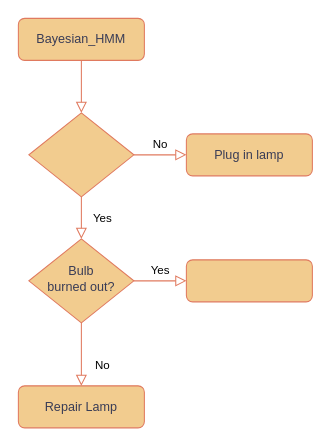
This 331x446 diagram has some shape labels left out. The box of each missing label's shape, as (x1, y1, x2, y2) in pixels:
Lamp plugged in?: (28, 112, 134, 197)
Replace Bulb: (185, 259, 312, 302)
